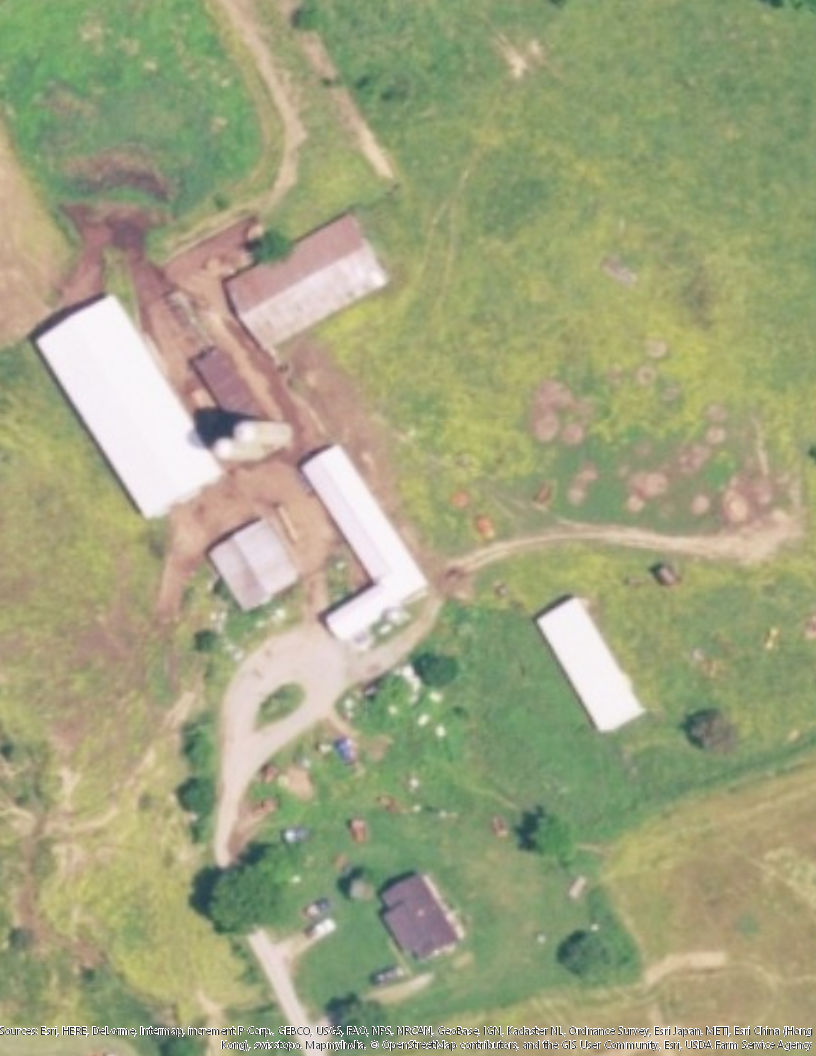cafo: (23, 290, 230, 523), (288, 439, 436, 648), (220, 211, 403, 348), (534, 588, 649, 749), (205, 509, 306, 619)
